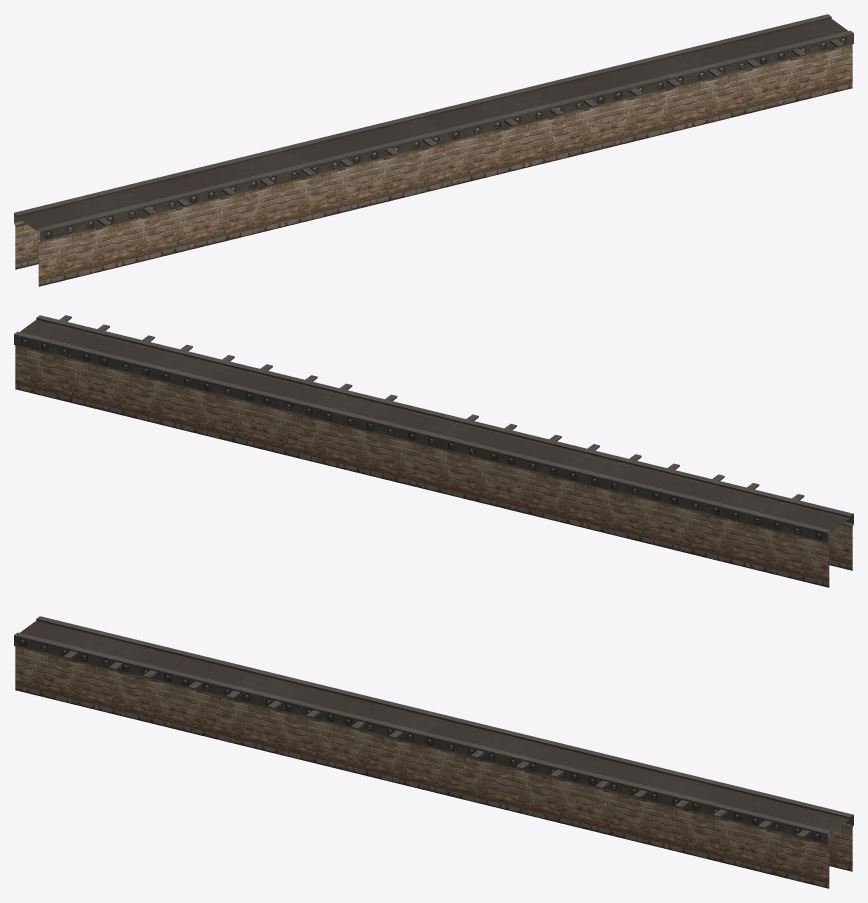
The model's file is Item_3001_dimianwujian_shiqiang01.FBX.
3 renders of one model, top to bottom at view 1: azimuth 30°, elevation 25°; view 2: azimuth 150°, elevation 25°; view 3: azimuth 330°, elevation 25°, orthographic.
Parts seen in each view (by area): view 1: Item_3001_dimianwujian_shiqiang01; view 2: Item_3001_dimianwujian_shiqiang01; view 3: Item_3001_dimianwujian_shiqiang01.
Part boxes in pixels (box(x1,y1,x2,y2)): Item_3001_dimianwujian_shiqiang01: box(14, 14, 853, 286); Item_3001_dimianwujian_shiqiang01: box(14, 315, 853, 587); Item_3001_dimianwujian_shiqiang01: box(14, 616, 853, 888).
Size of the model in its own units: 2709 by 178 by 195.
